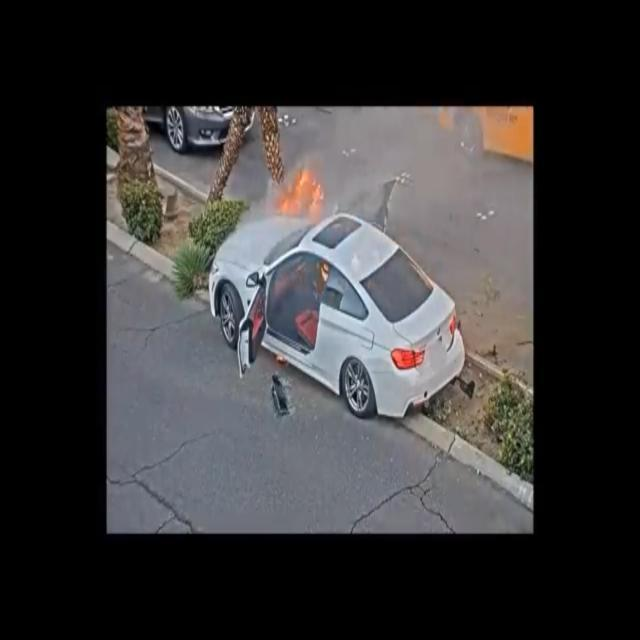fire: (270, 180, 322, 220)
